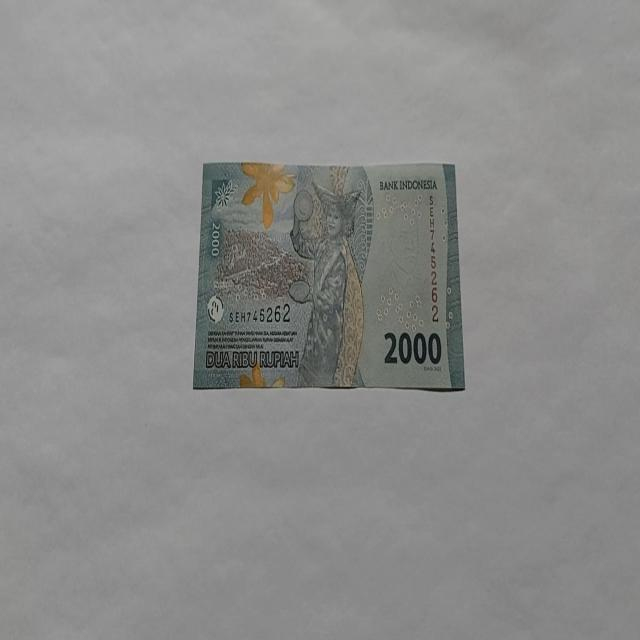dua ribu rupiah: (192, 159, 465, 392), (288, 178, 365, 388)
